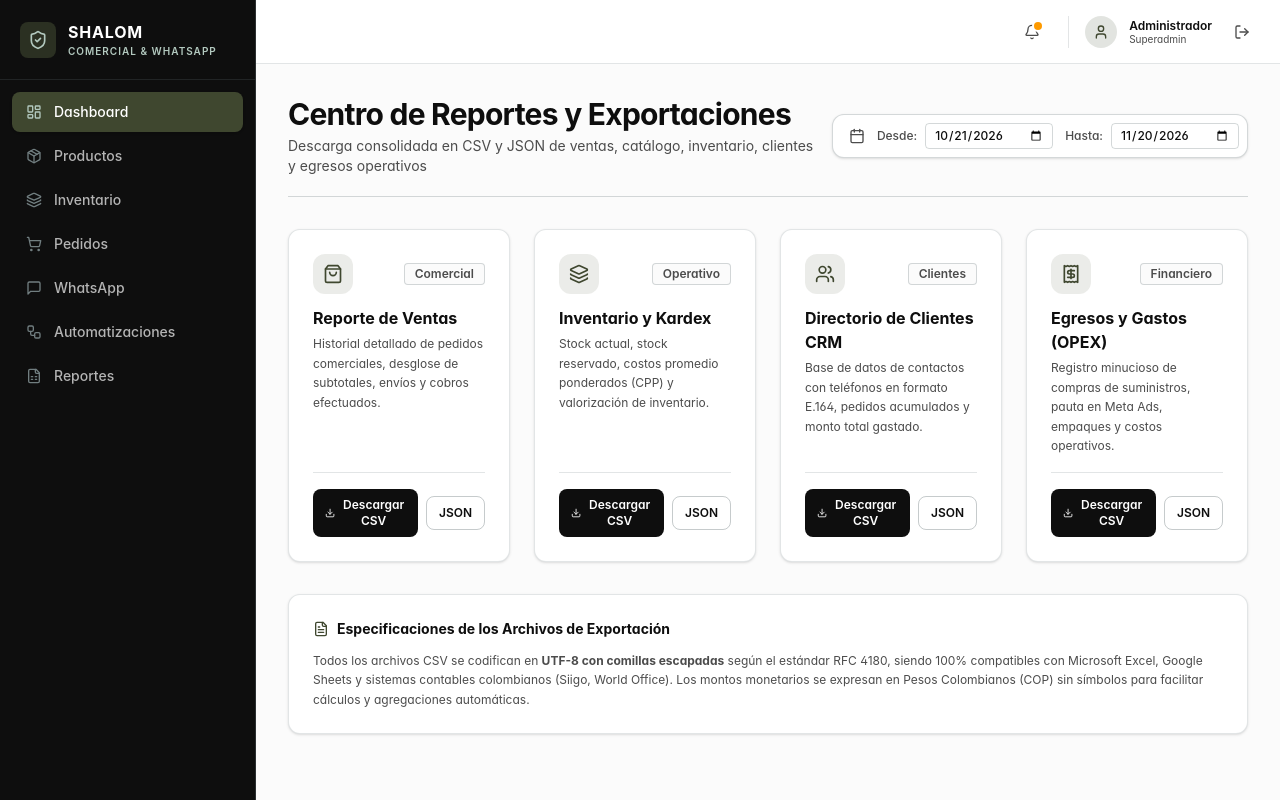
it: ReportsPage export › shows a friendly Spanish error when the server cannot be reached
Click the button "Descargar CSV" below "Reporte de Ventas".
click(366, 512)  # box x1=313 y1=488 x2=418 y2=536
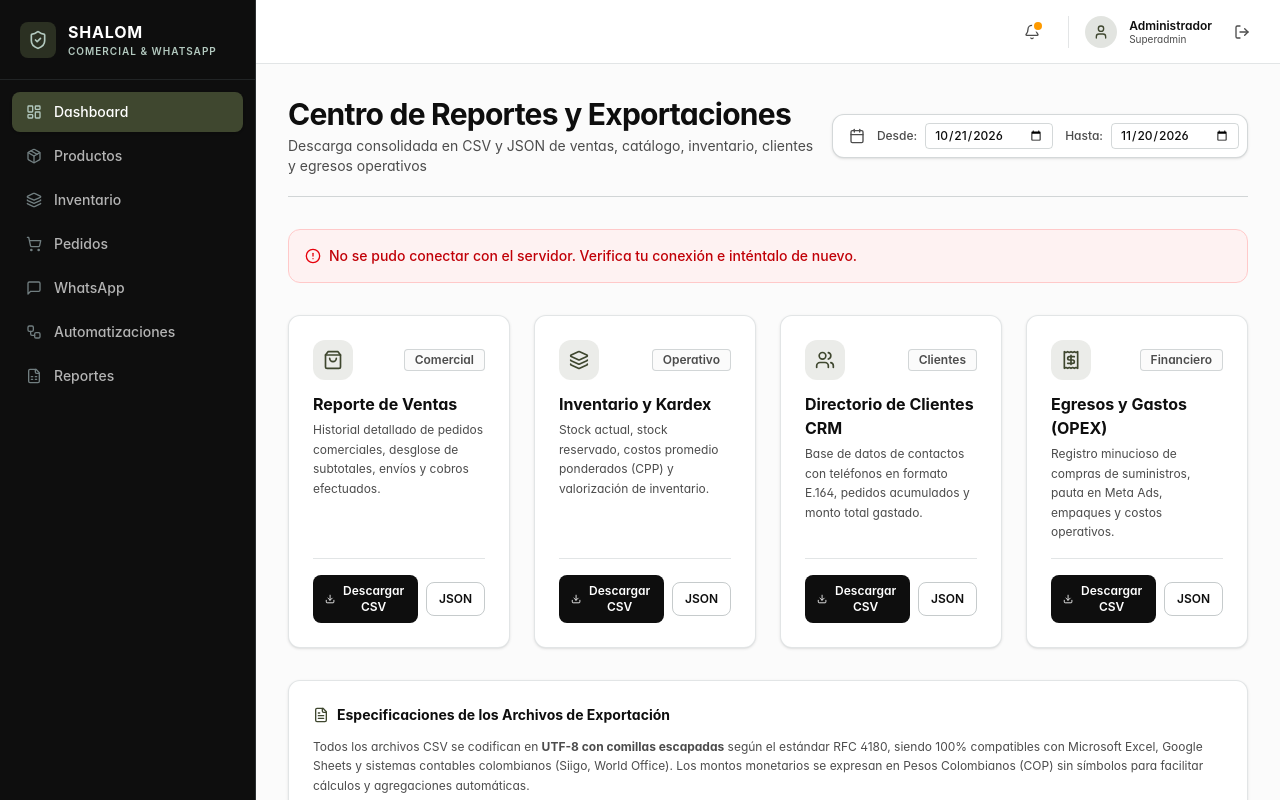
Expected: the text "No se pudo conectar con el servidor. Verifica tu conexión e inténtalo de nuevo." is shown, x1=329 y1=246 x2=857 y2=266
